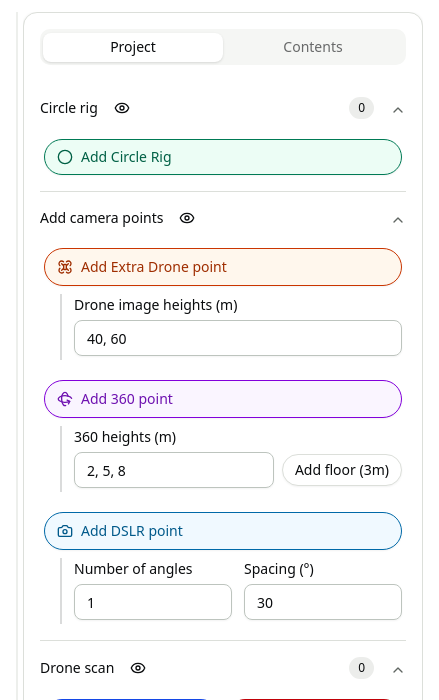
Test case: places a new rig at the current view center without changing the legacy coordinates
Click the button "Add Circle Rig" at x=126, y=156, box [44,139,402,175]
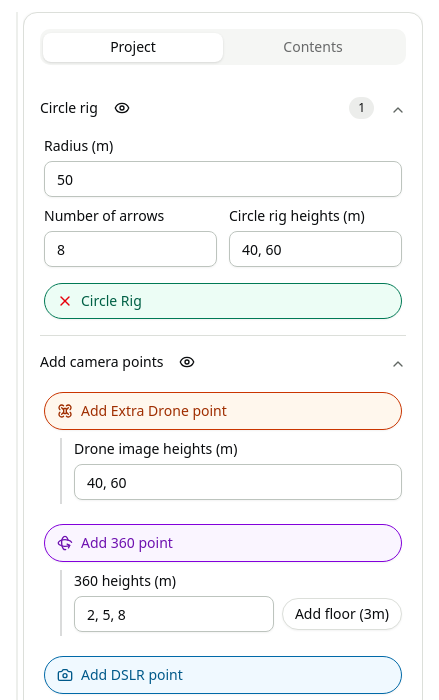
Check: the button with aria-label "Remove Circle Rig" does not show "Remove", box [44,283,402,319]
Check: the button with aria-label "Remove Circle Rig" reads "Circle Rig", box [44,283,402,319]
